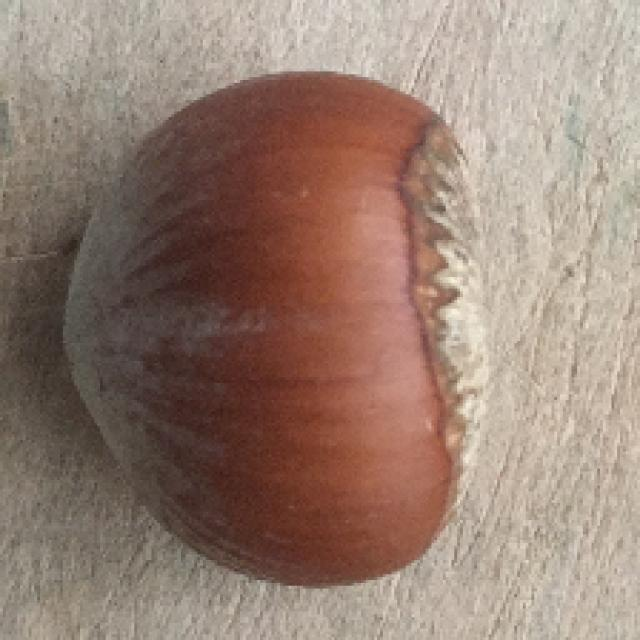qualityHazelnut: (55, 69, 494, 584)
